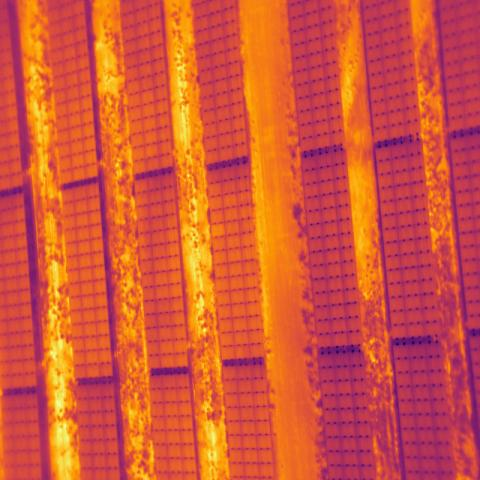fault: (209, 222, 226, 241)
